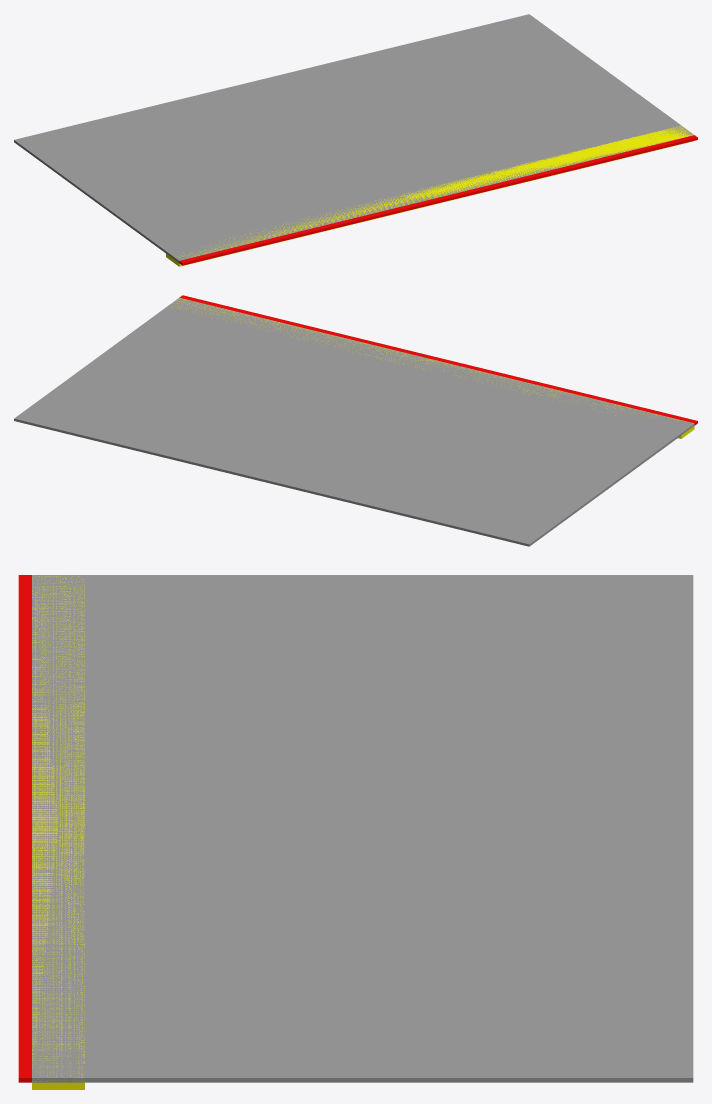
File: Hộp đèn tôn rỉ sét 45 x 25.obj
The picture shows the model from 3 angles, top to bottom: view 1: azimuth 30°, elevation 25°; view 2: azimuth 150°, elevation 25°; view 3: azimuth 270°, elevation 25°; orthographic projection. The views are drawn at different scales.
Parts seen in each view (by area): view 1: be_mat_bien, den_led, vien_trang_tri, khung_do; view 2: be_mat_bien, khung_do, vien_trang_tri, den_led; view 3: be_mat_bien, khung_do, den_led, vien_trang_tri.
Boxes of the visible parts, x1,y1,x2,y2 form: be_mat_bien: [14, 14, 689, 261]; den_led: [166, 125, 694, 266]; vien_trang_tri: [179, 135, 697, 265]; khung_do: [166, 125, 693, 262]; be_mat_bien: [14, 298, 693, 546]; khung_do: [167, 297, 694, 435]; vien_trang_tri: [179, 295, 697, 425]; den_led: [172, 298, 694, 438]; be_mat_bien: [32, 575, 693, 1082]; khung_do: [32, 575, 84, 1082]; den_led: [32, 576, 84, 1089]; vien_trang_tri: [18, 575, 31, 1082].
Size of the model in its own units: 0.45 by 0.005 by 0.255.
